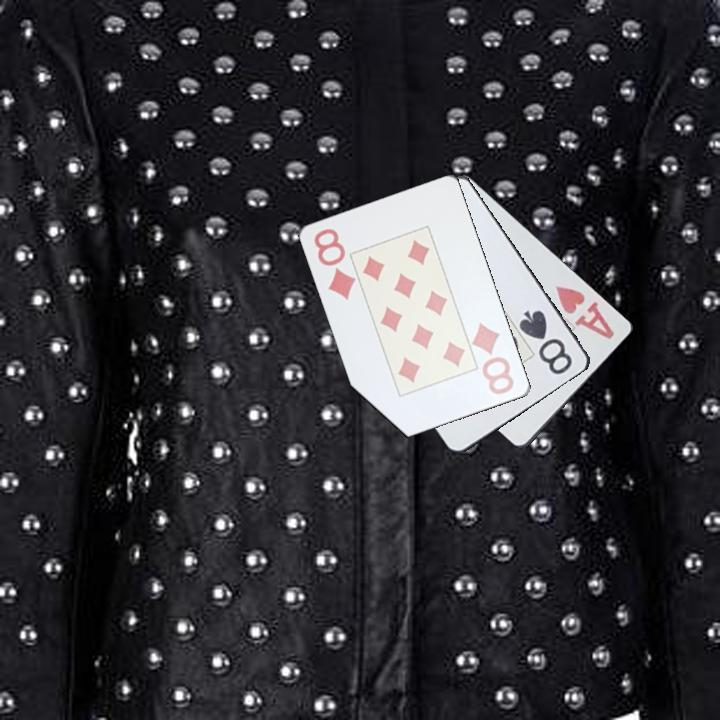8d: (469, 319, 517, 398), (311, 225, 359, 303)
8s: (516, 306, 576, 378)
Ah: (552, 282, 618, 342)
